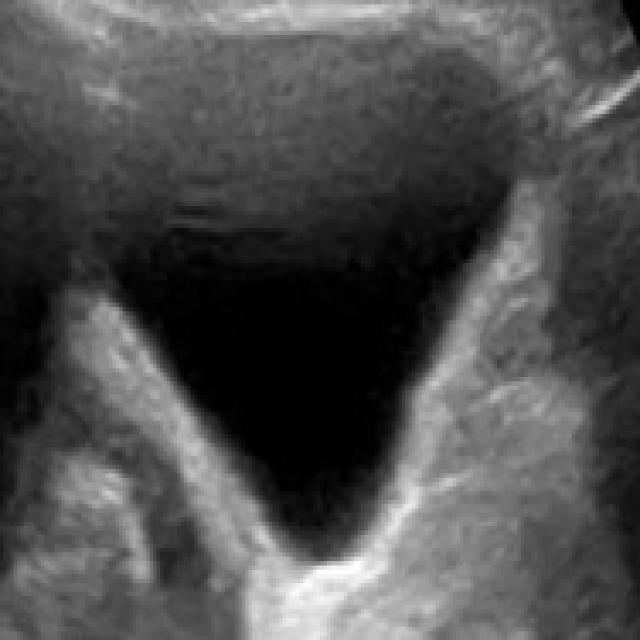bladder: (78, 6, 565, 614)
